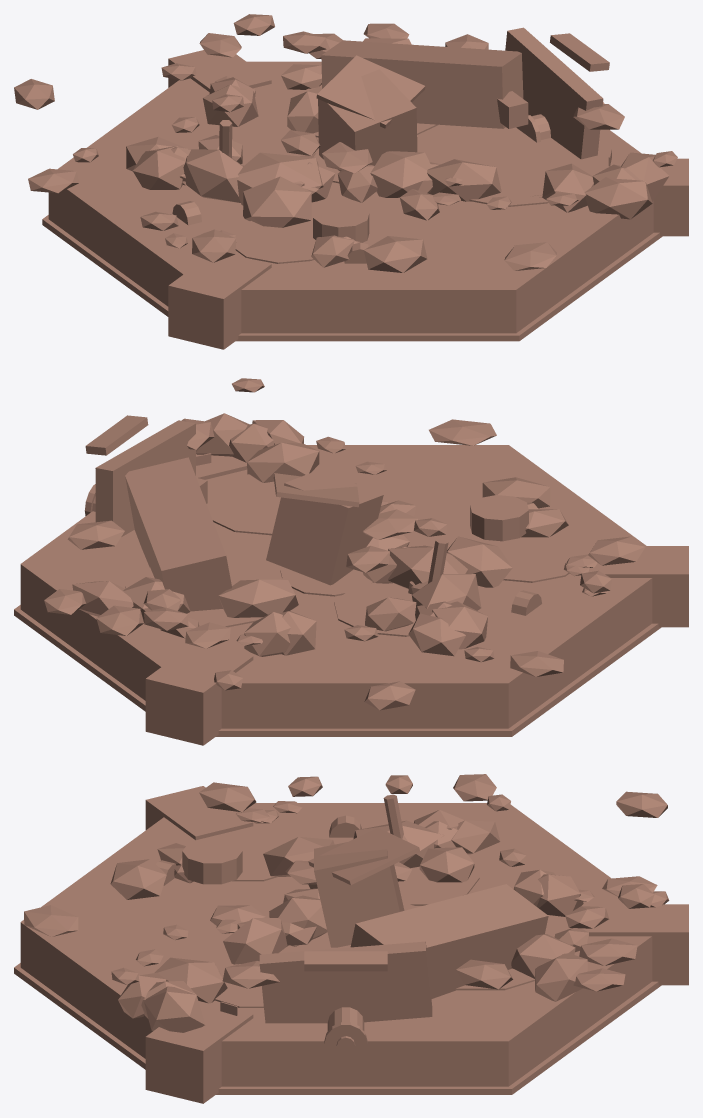
Rendered from main_building_s2_ruin.glb.
3 renders of one model, top to bottom at view 1: azimuth 30°, elevation 25°; view 2: azimuth 150°, elevation 25°; view 3: azimuth 270°, elevation 25°, orthographic. The views are drawn at different scales.
Parts seen in each view (by area): view 1: MB_BrokenPipe_1; view 2: MB_BrokenPipe_1; view 3: MB_BrokenPipe_1.
Part boxes in pixels (x1,y1,x2,y2): MB_BrokenPipe_1: [14, 14, 688, 349]; MB_BrokenPipe_1: [14, 378, 688, 745]; MB_BrokenPipe_1: [14, 774, 688, 1103].
Bounding box in the file's own units: 3.82 × 0.9408 × 4.04.
